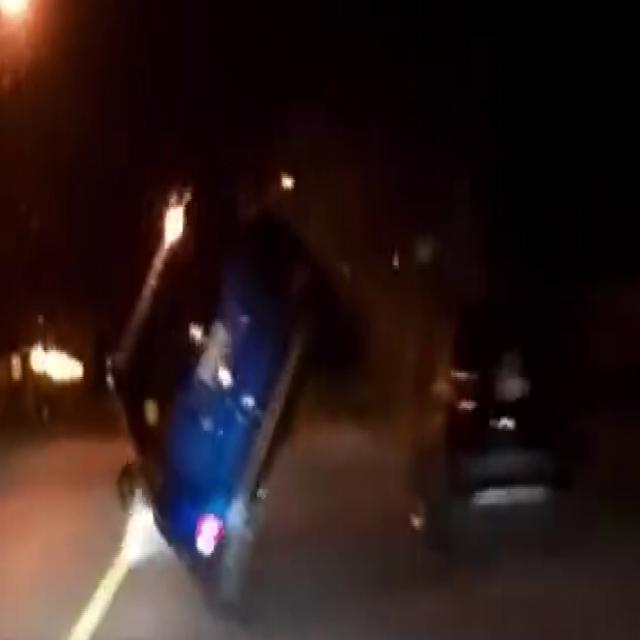accident: (90, 151, 376, 625)
